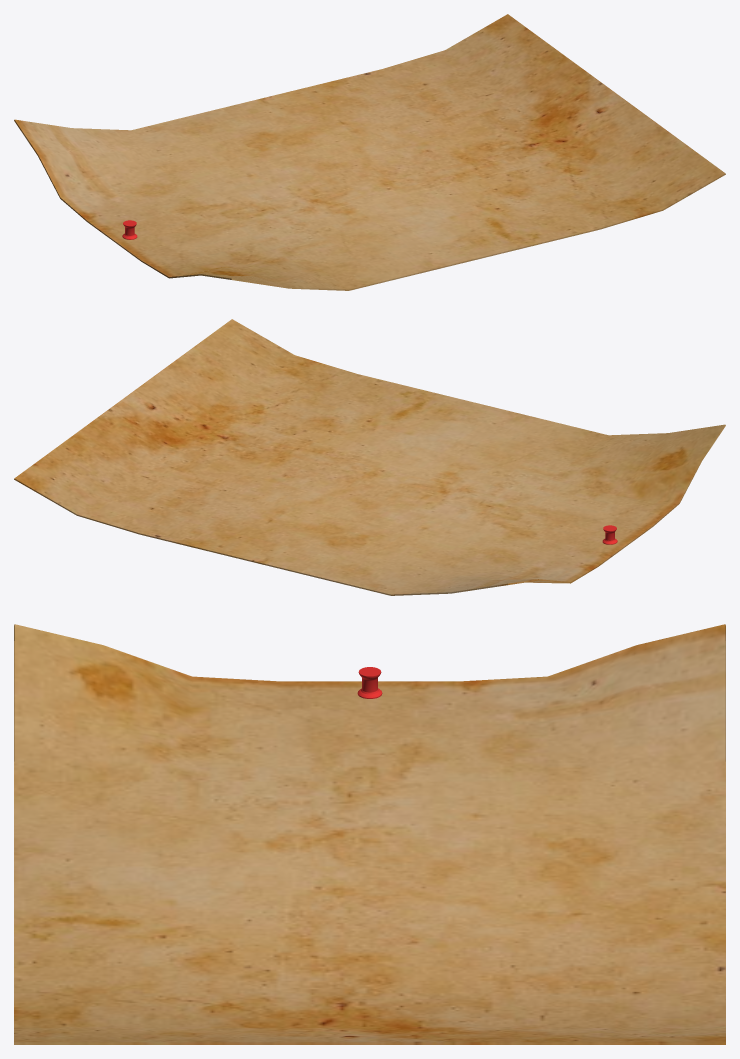
File: OldPaper_Thumb.fbx
The picture shows the model from 3 angles, top to bottom: view 1: azimuth 30°, elevation 25°; view 2: azimuth 150°, elevation 25°; view 3: azimuth 270°, elevation 25°; orthographic projection. The views are drawn at different scales.
Visible parts, largest first — view 1: Plane; view 2: Plane; view 3: Plane.
Part boxes in pixels (x1,y1,x2,y2): Plane: (14,14,725,290); Plane: (14,319,725,595); Plane: (14,624,725,1044).
Size of the model in its own units: 60 by 4.64 by 45.
